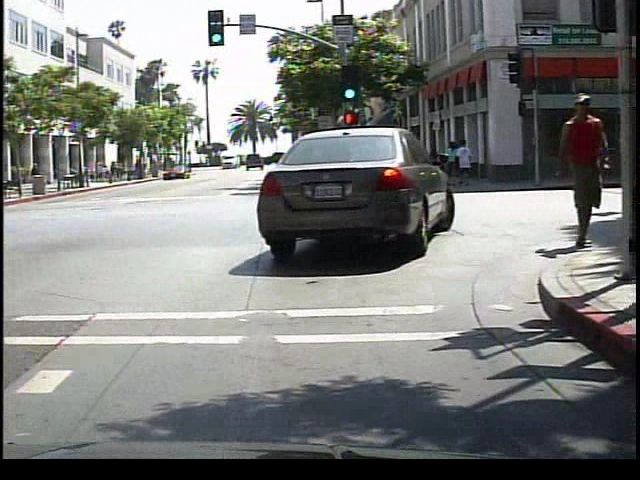person: (543, 88, 609, 260), (24, 158, 41, 190)
